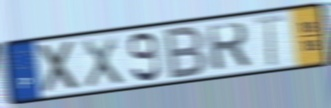9: (128, 31, 162, 83)
B: (164, 24, 210, 82)
R: (205, 20, 253, 73)
T: (253, 13, 286, 69)
X: (36, 38, 83, 96), (79, 34, 126, 91)
